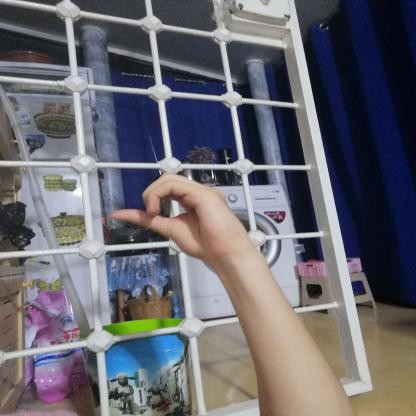WAW: (95, 164, 254, 269)
